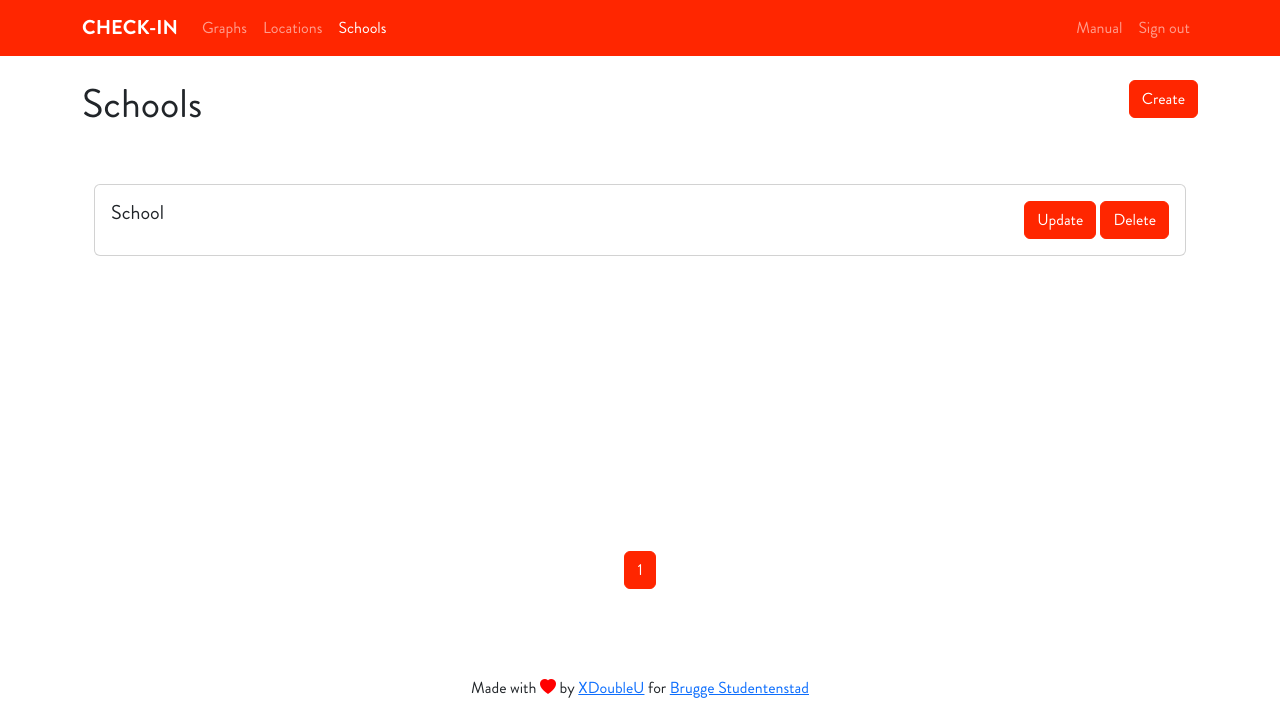
Test: SchoolListView (page) › Creates a school, school with name already exists
Click the button "Create" at x=1163, y=99, box [1129,80,1198,118]
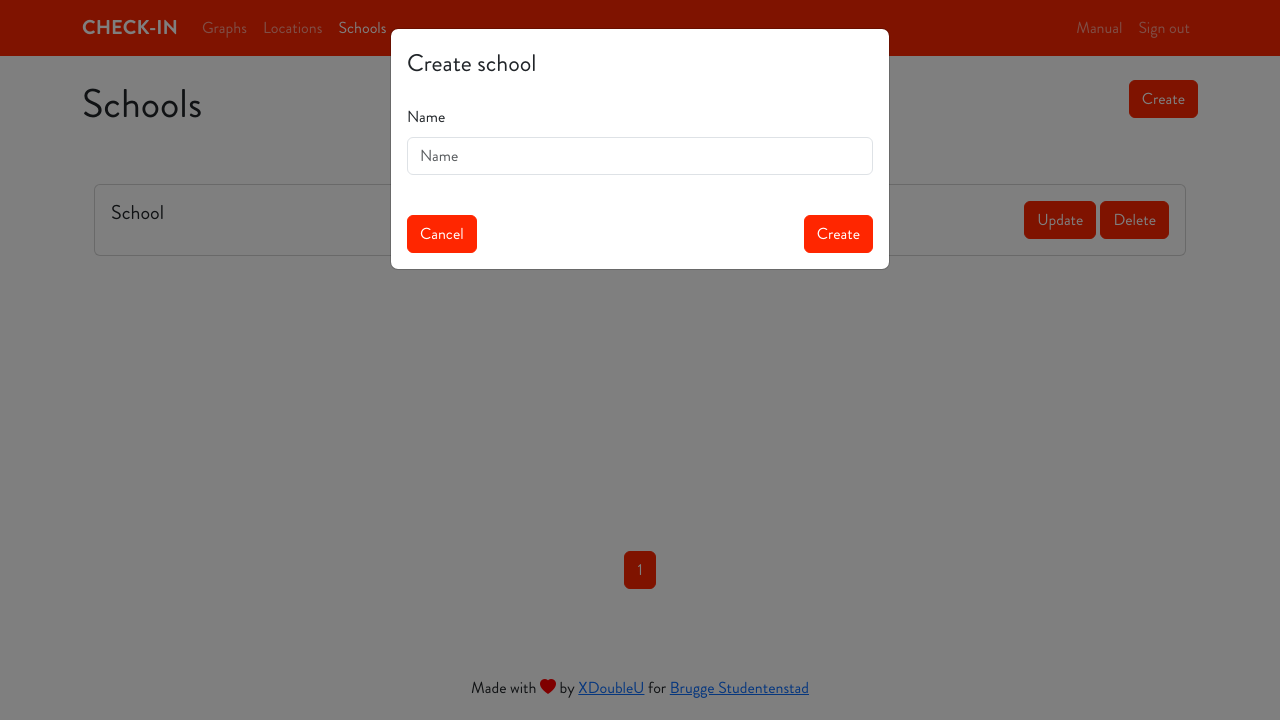
Type "newName" into the field labelled "Name" at x=640, y=156, box [407,137,873,175]
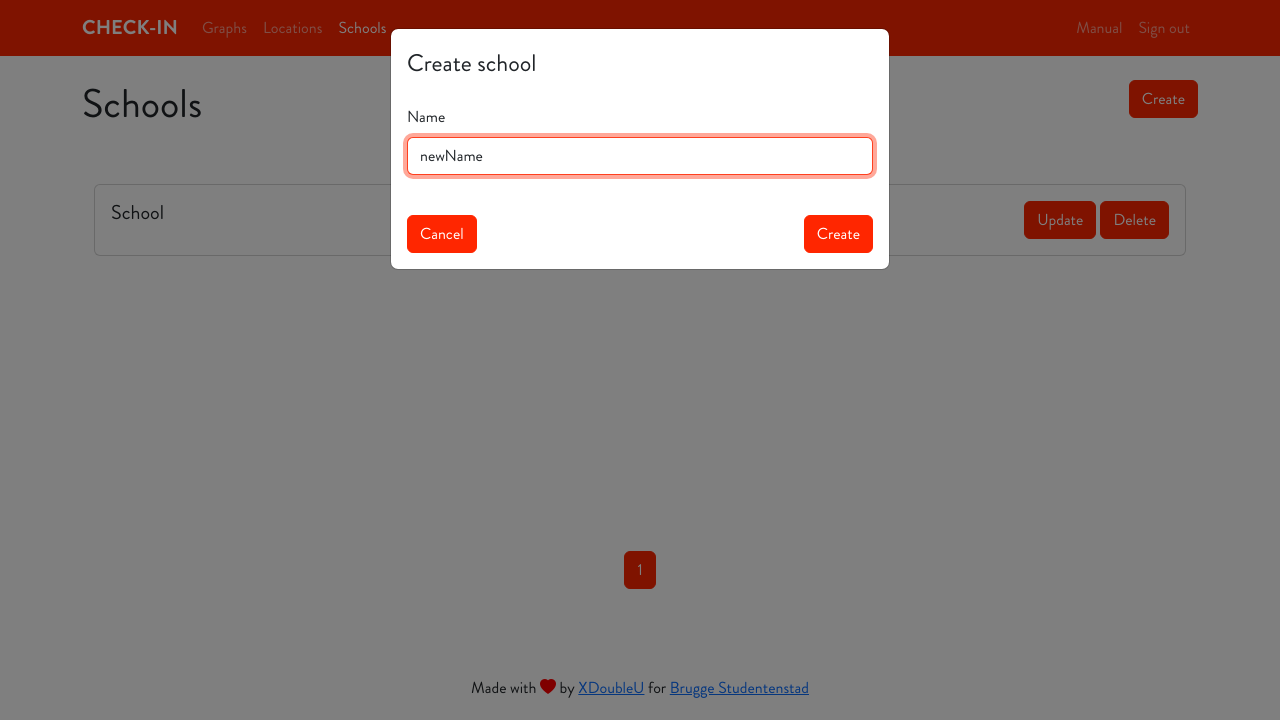
Click the button "Create" at x=838, y=234, box [804,215,873,253]
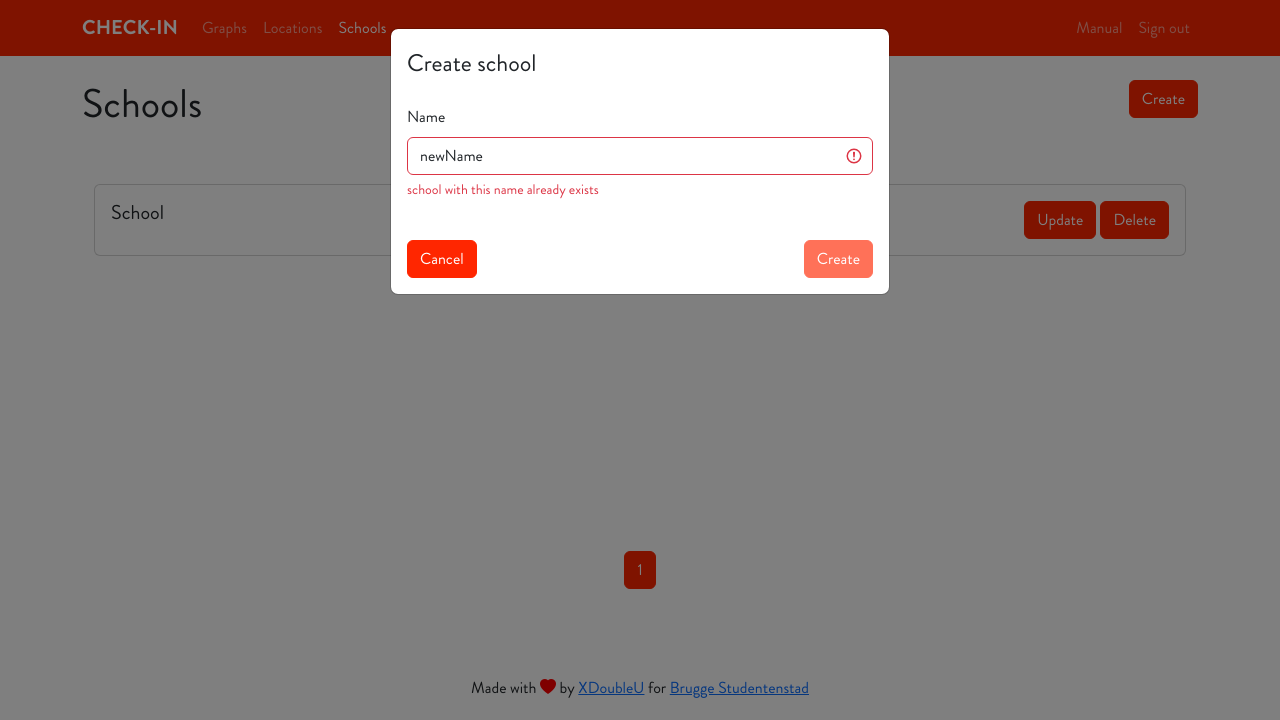
Expected: the text "school with this name already exists" is shown, [407,179,599,199]
